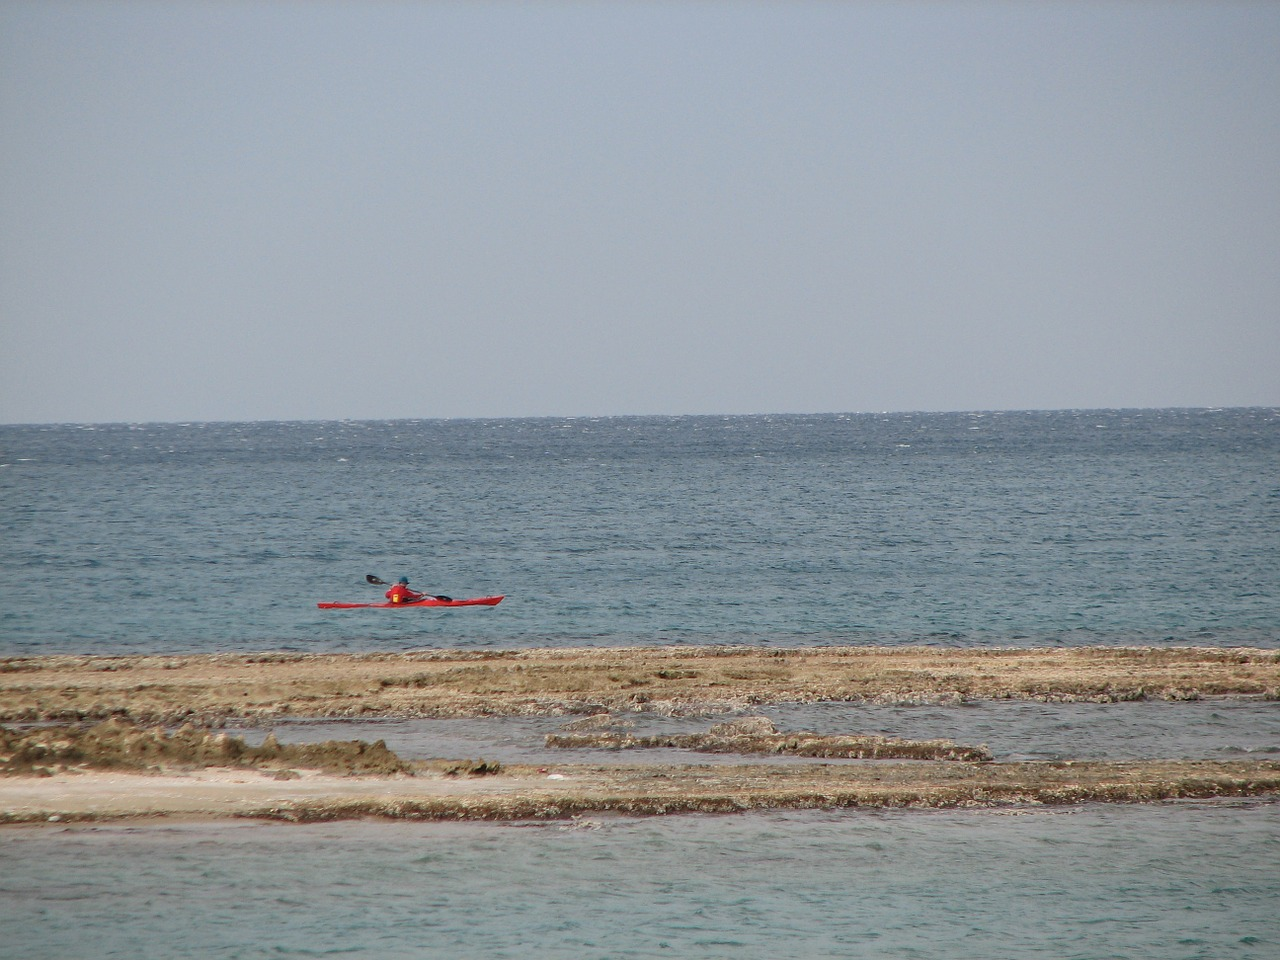kayak: (314, 595, 509, 609)
